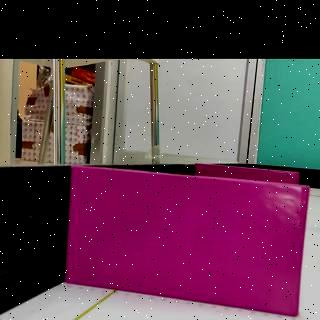xparking: (64, 167, 309, 314), (197, 165, 299, 181)
